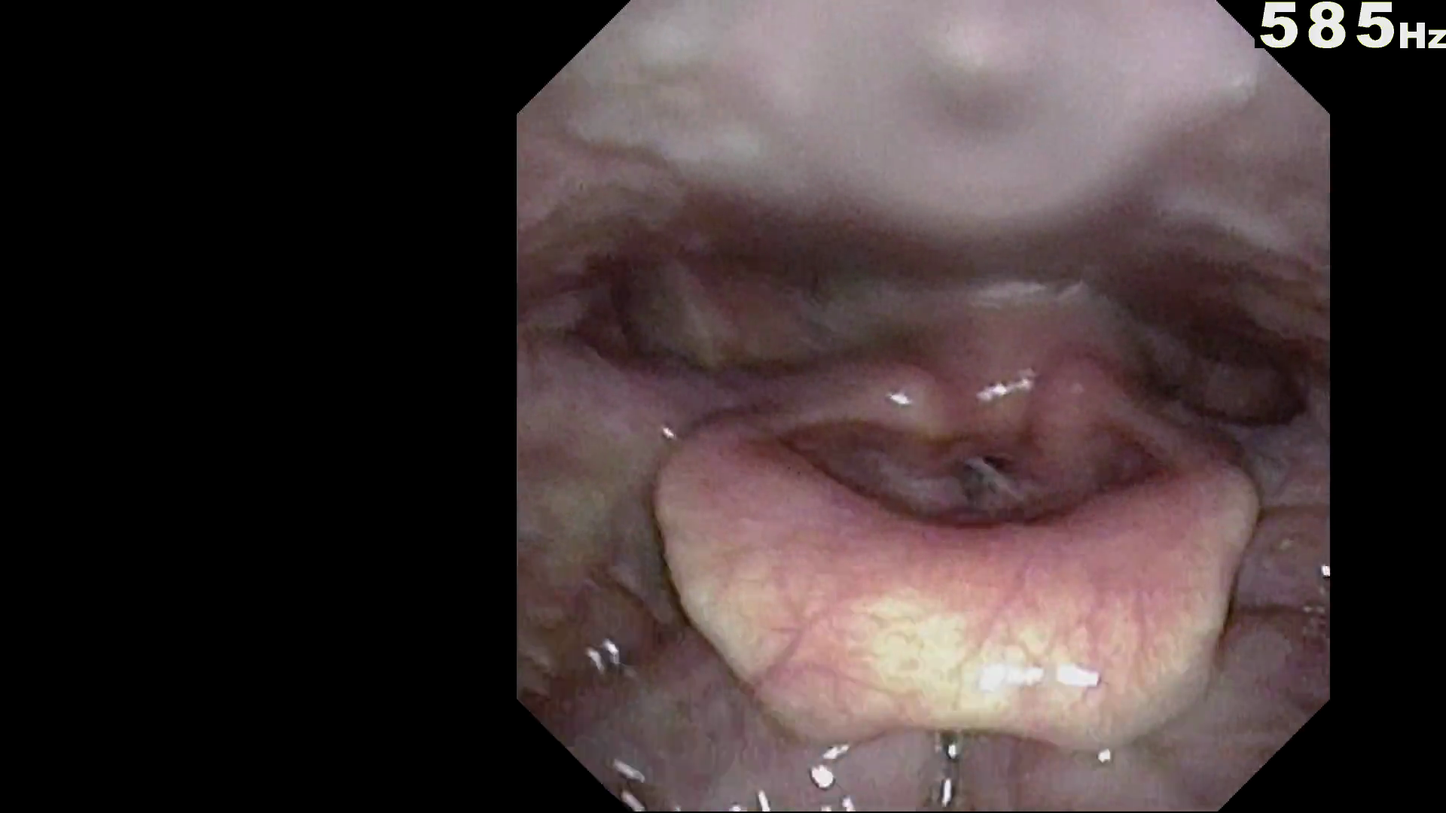epiglottis: (657, 444, 1267, 715)
trachea: (919, 421, 1043, 543)
